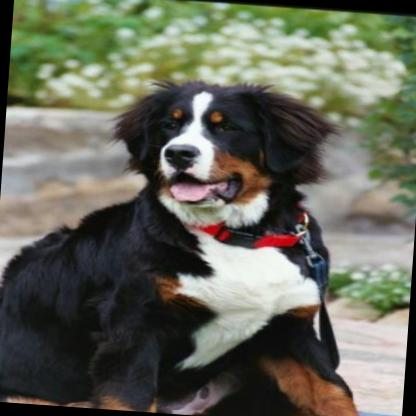Greater_Swiss_Mountain_dog: (0, 61, 390, 416)
